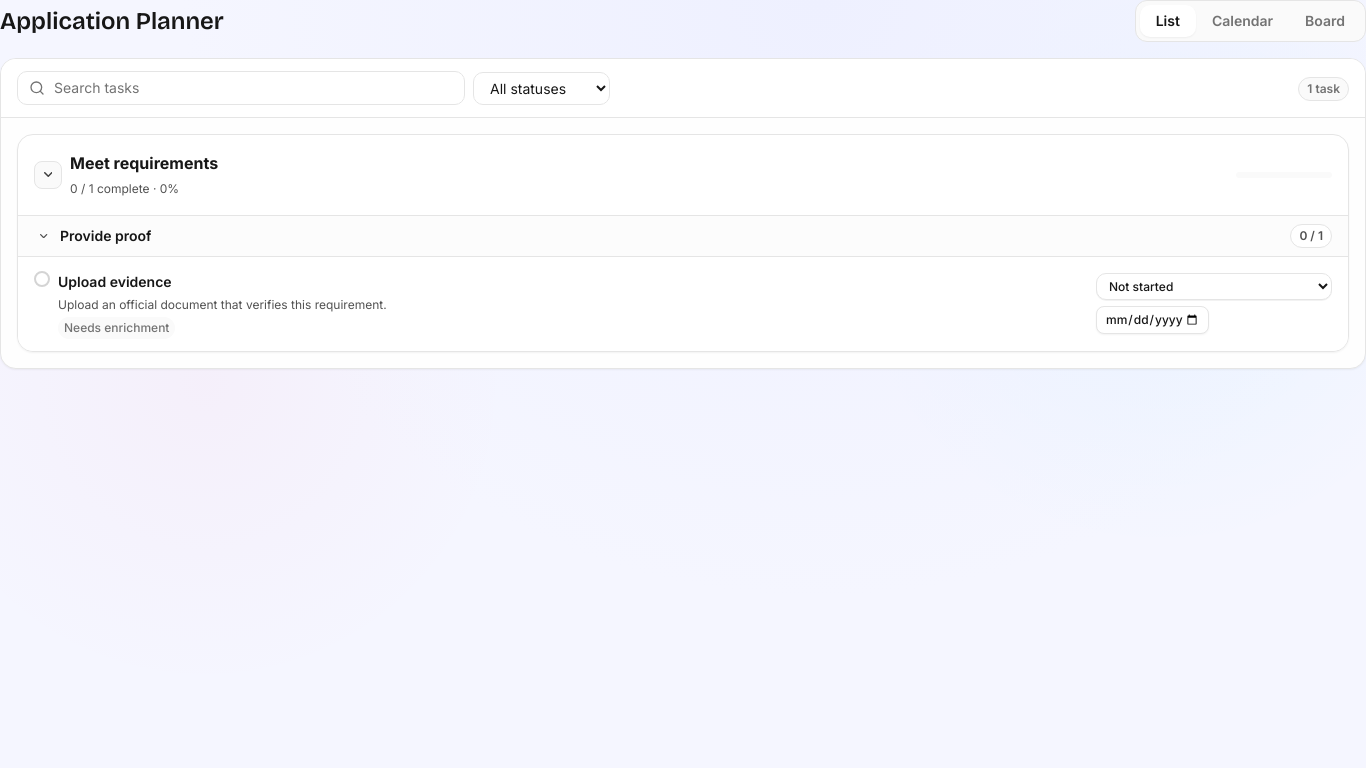
Test case: HierarchicalApplicationPlanner › keeps Calendar and Kanban micro-step-only views available from the same state
What coordinates should you click on to do the following:
click the tab "Calendar"
I would click on:
 (1242, 21)
Its box is [1196,5,1289,37].
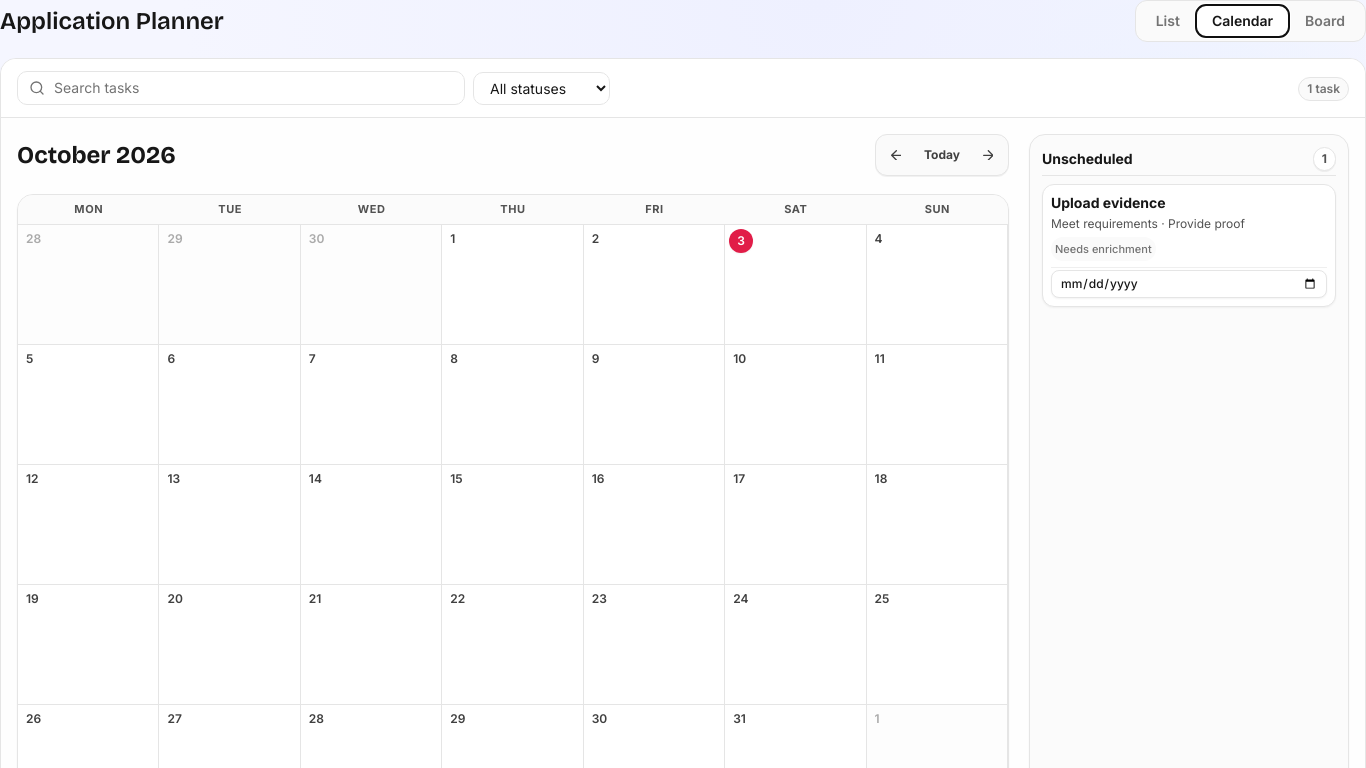
Expected: the heading "Unscheduled" is shown, [1042,149,1133,169]
What coordinates should you click on to do the following:
click the tab "Board"
I would click on:
 (1325, 21)
Its box is [1289,5,1361,37].
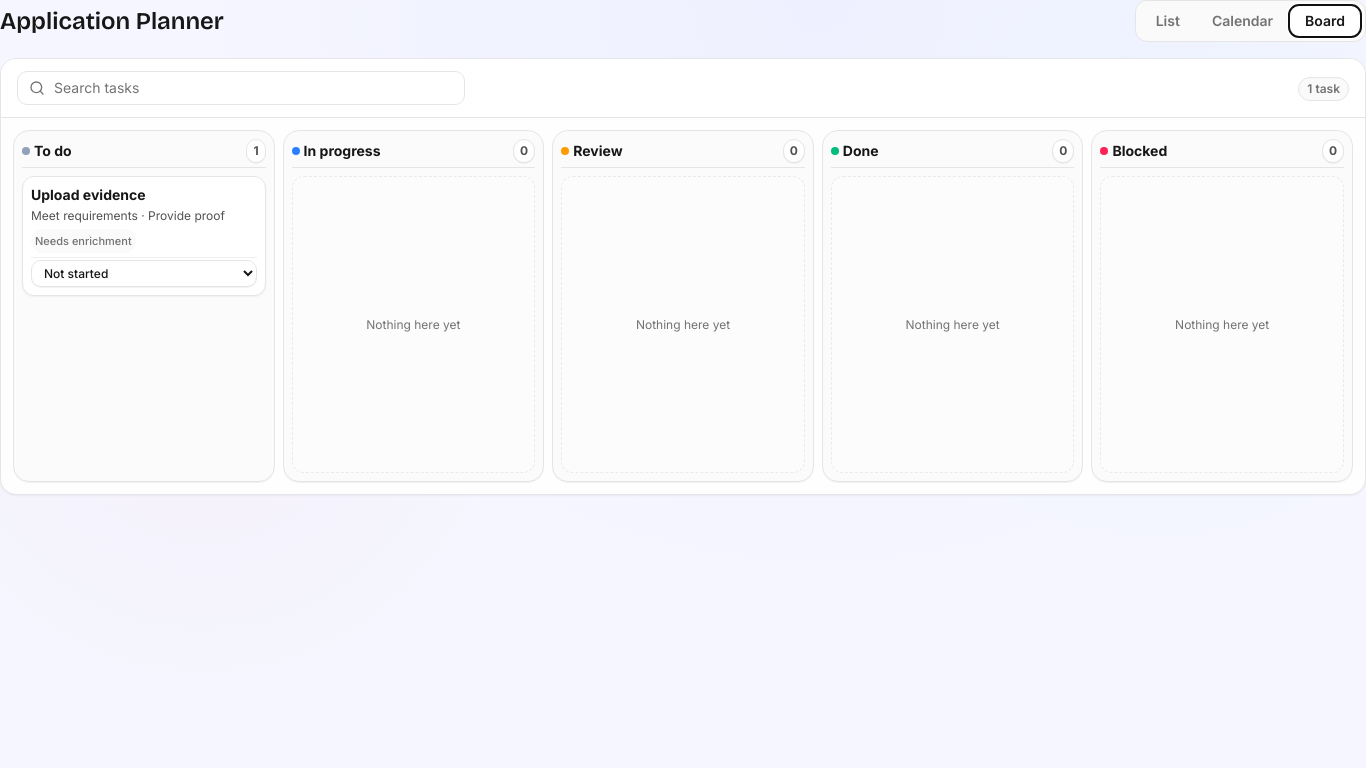
Expected: the text "Meet requirements · Provide proof" is shown, [31,207,257,225]
Expected: the heading "To do" is shown, [34,141,72,161]
